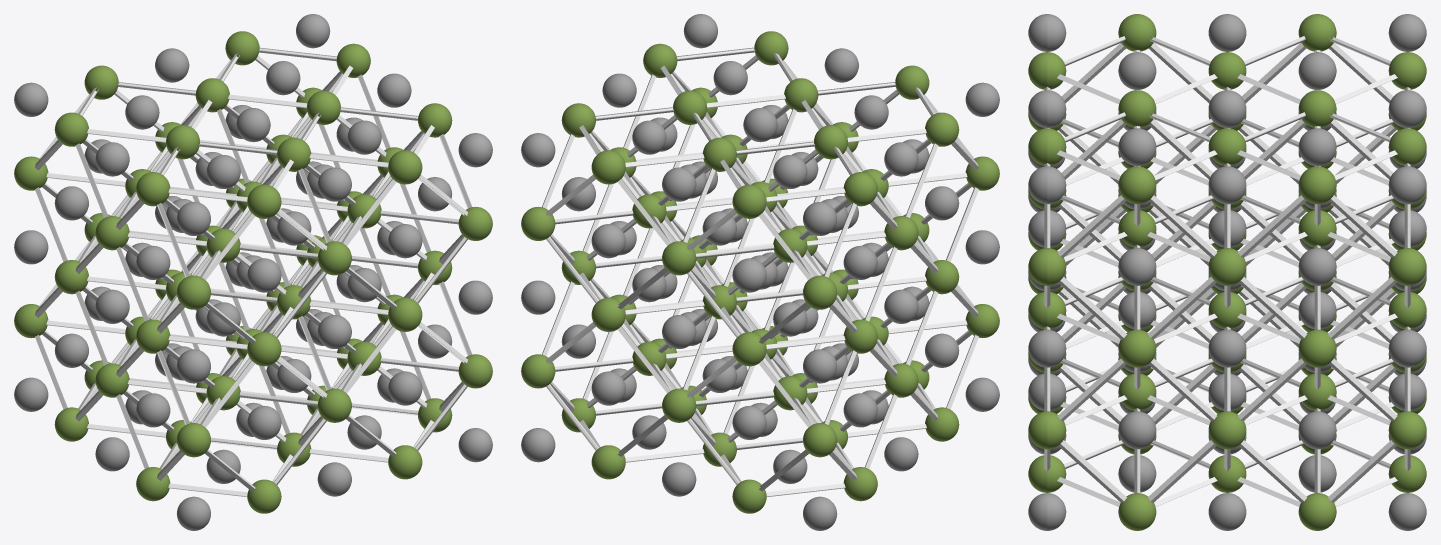
Rendered from sodium_chloride_nacl_model_g.glb.
3 renders of one model, left to right at view 1: azimuth 30°, elevation 25°; view 2: azimuth 150°, elevation 25°; view 3: azimuth 270°, elevation 25°, orthographic. The views are drawn at different scales.
Visible parts, largest first — view 1: Object_3, Object_2, Object_23, Object_21, Object_29, Object_19, Object_18, Object_12, Object_14, Object_6, Object_25, Object_40 (+24 smaller); view 2: Object_3, Object_2, Object_24, Object_22, Object_26, Object_19, Object_11, Object_20, Object_25, Object_9, Object_13, Object_6 (+25 smaller); view 3: Object_3, Object_2, Object_35, Object_36, Object_39, Object_32, Object_40, Object_22, Object_21, Object_25, Object_26, Object_29 (+27 smaller).
Part boxes in pixels (left/top/right/bottom): Object_3: left=14, top=14, right=492, bottom=530; Object_2: left=14, top=31, right=492, bottom=513; Object_23: left=273, top=267, right=396, bottom=397; Object_21: left=232, top=164, right=361, bottom=296; Object_29: left=232, top=311, right=361, bottom=442; Object_19: left=191, top=94, right=321, bottom=191; Object_18: left=272, top=154, right=396, bottom=250; Object_12: left=158, top=302, right=255, bottom=427; Object_14: left=116, top=198, right=220, bottom=330; Object_6: left=116, top=346, right=220, bottom=477; Object_25: left=191, top=211, right=318, bottom=338; Object_40: left=373, top=132, right=468, bottom=261; Object_3: left=521, top=14, right=999, bottom=530; Object_2: left=521, top=31, right=999, bottom=513; Object_24: left=617, top=267, right=741, bottom=398; Object_22: left=652, top=164, right=781, bottom=295; Object_26: left=652, top=311, right=781, bottom=442; Object_19: left=692, top=94, right=822, bottom=191; Object_11: left=758, top=302, right=856, bottom=427; Object_20: left=618, top=154, right=741, bottom=250; Object_25: left=695, top=211, right=822, bottom=338; Object_9: left=793, top=346, right=897, bottom=477; Object_13: left=793, top=198, right=897, bottom=329; Object_6: left=876, top=286, right=978, bottom=417; Object_3: left=1028, top=14, right=1426, bottom=530; Object_2: left=1028, top=14, right=1426, bottom=530; Object_35: left=1241, top=362, right=1394, bottom=501; Object_36: left=1151, top=280, right=1303, bottom=419; Object_39: left=1241, top=199, right=1394, bottom=337; Object_32: left=1060, top=362, right=1213, bottom=501; Object_40: left=1060, top=199, right=1213, bottom=337; Object_22: left=1240, top=123, right=1394, bottom=258; Object_21: left=1060, top=123, right=1214, bottom=258; Object_25: left=1150, top=204, right=1304, bottom=339; Object_26: left=1240, top=286, right=1394, bottom=421; Object_29: left=1060, top=286, right=1214, bottom=421.
Size of the model in its own units: 12.58 by 12.58 by 12.58.
